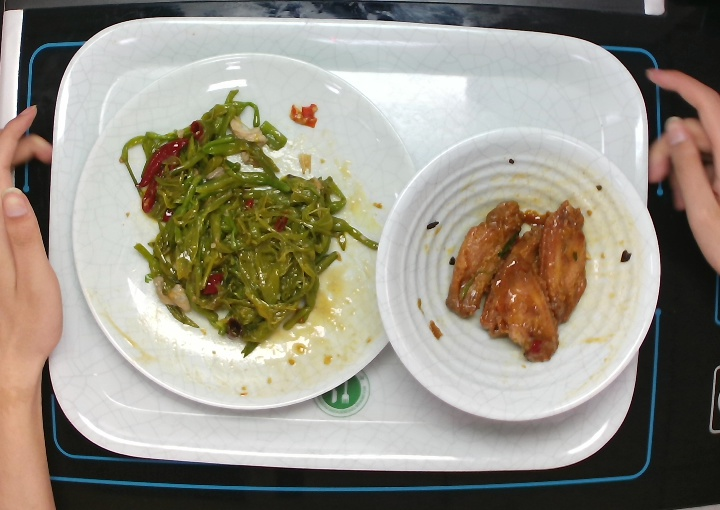JYsf-Da_Yuan_Pan: (65, 46, 429, 415)
JYsf-Xiao_Tang_Wan: (372, 122, 663, 426)
